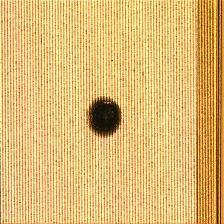PARTICLE: (84, 95, 128, 139)
